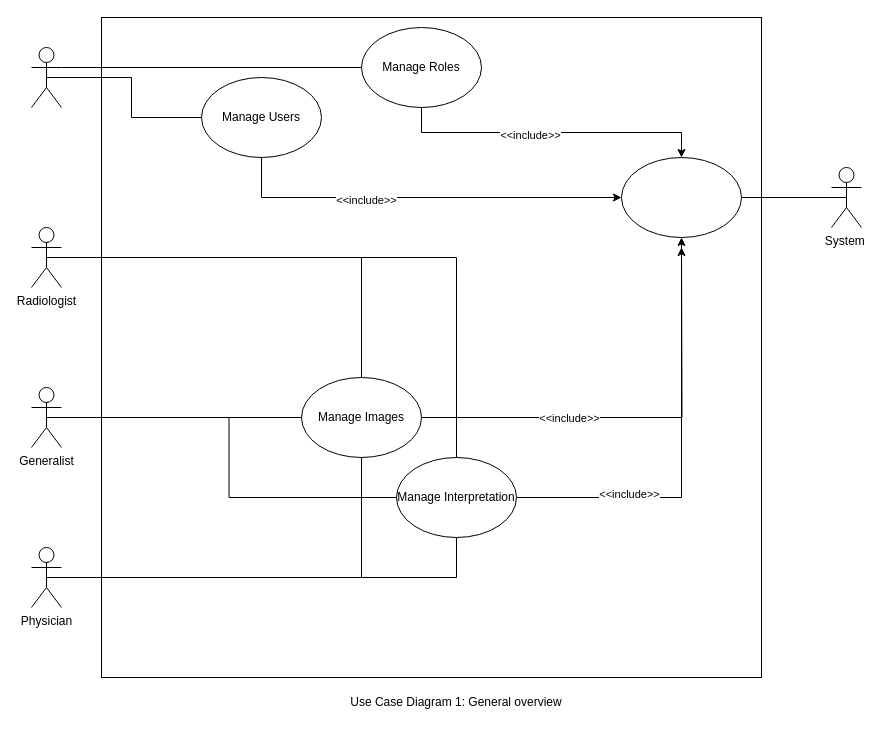
This 885x735 diagram has some shape labels left out. Here are the shapes that lost their labels. From the top down, the centre of each, then its label:
At point (46, 77): "Admin".
At point (681, 197): "Authenticate".
